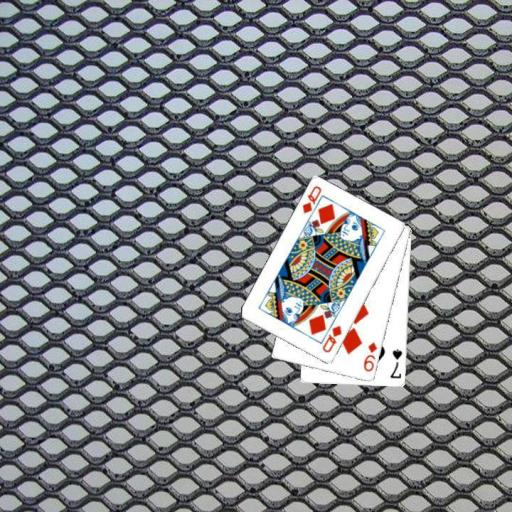card-corner: (320, 322, 344, 354), (299, 183, 323, 215), (360, 340, 378, 374), (387, 346, 404, 380)
